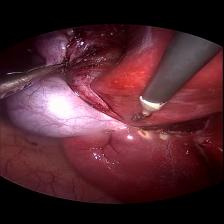Grasper: (1, 56, 72, 101)
Hook: (127, 92, 177, 121)
